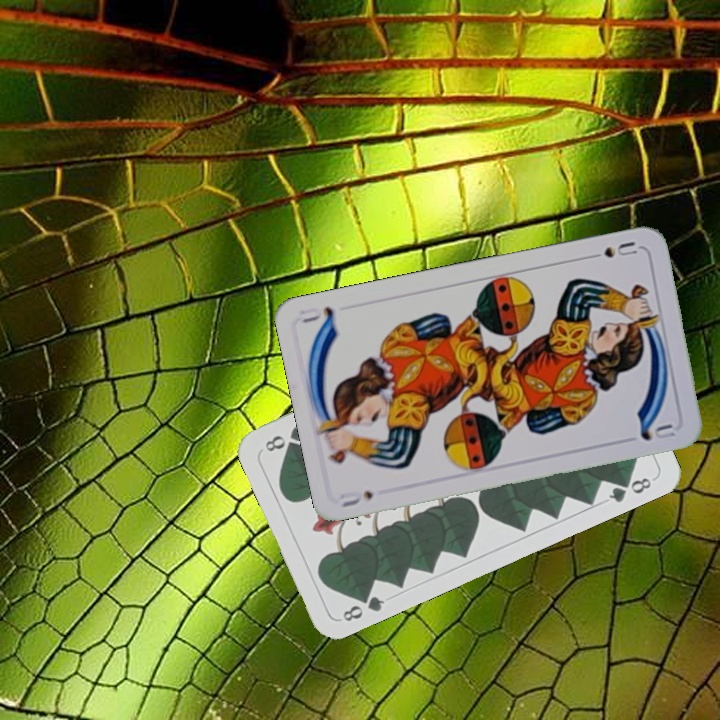G8: (338, 587, 387, 625)
SU: (583, 237, 640, 262), (336, 486, 376, 510)
